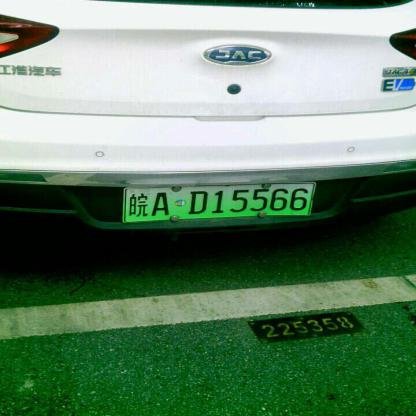lp: (125, 182, 315, 223)
